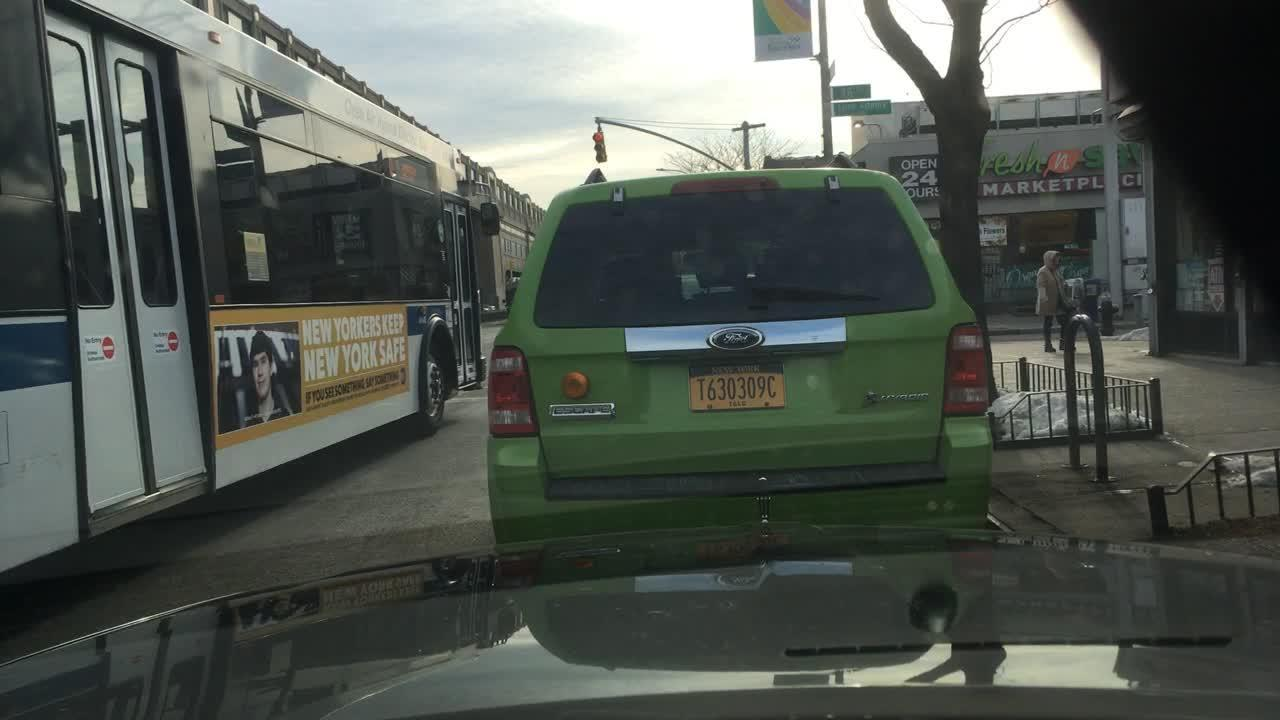ford: (696, 318, 777, 364)
